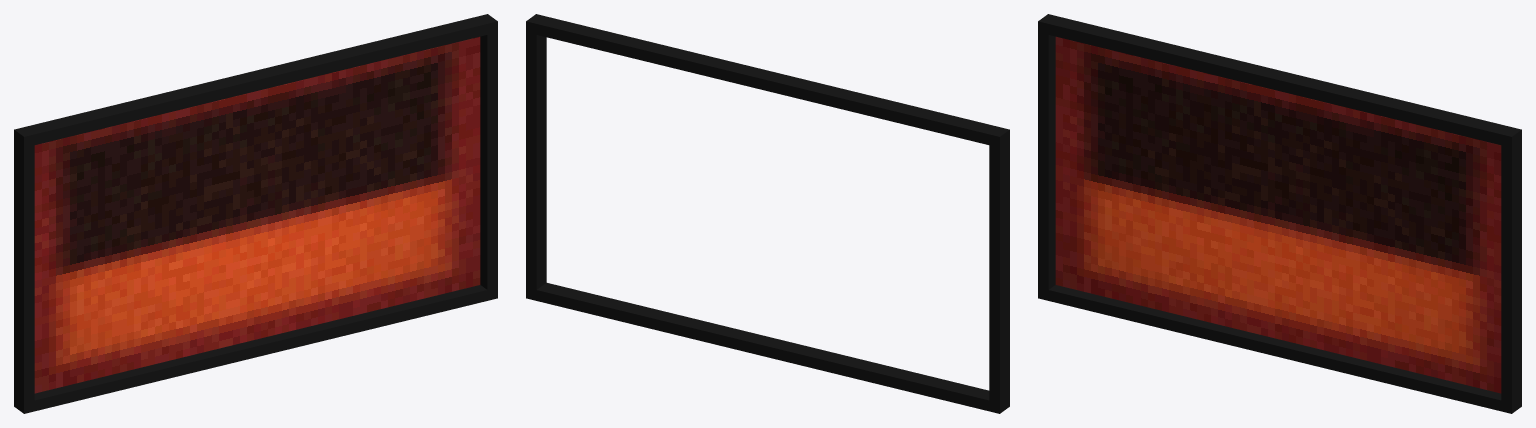
Rendered from painting-color-field.glb.
3 views of the same model, side by side, from view 1: azimuth 30°, elevation 25°; view 2: azimuth 150°, elevation 25°; view 3: azimuth 330°, elevation 25° (orthographic).
Parts seen in each view (by area): view 1: painting-color-field; view 2: painting-color-field; view 3: painting-color-field.
Boxes of the visible parts, x1=… form: painting-color-field: x1=14, y1=14, x2=497, y2=413; painting-color-field: x1=526, y1=14, x2=1009, y2=413; painting-color-field: x1=1038, y1=14, x2=1521, y2=413.
Size of the model in its own units: 2.72 by 1.52 by 0.1.
Materials: 2 (1 with a texture image).
